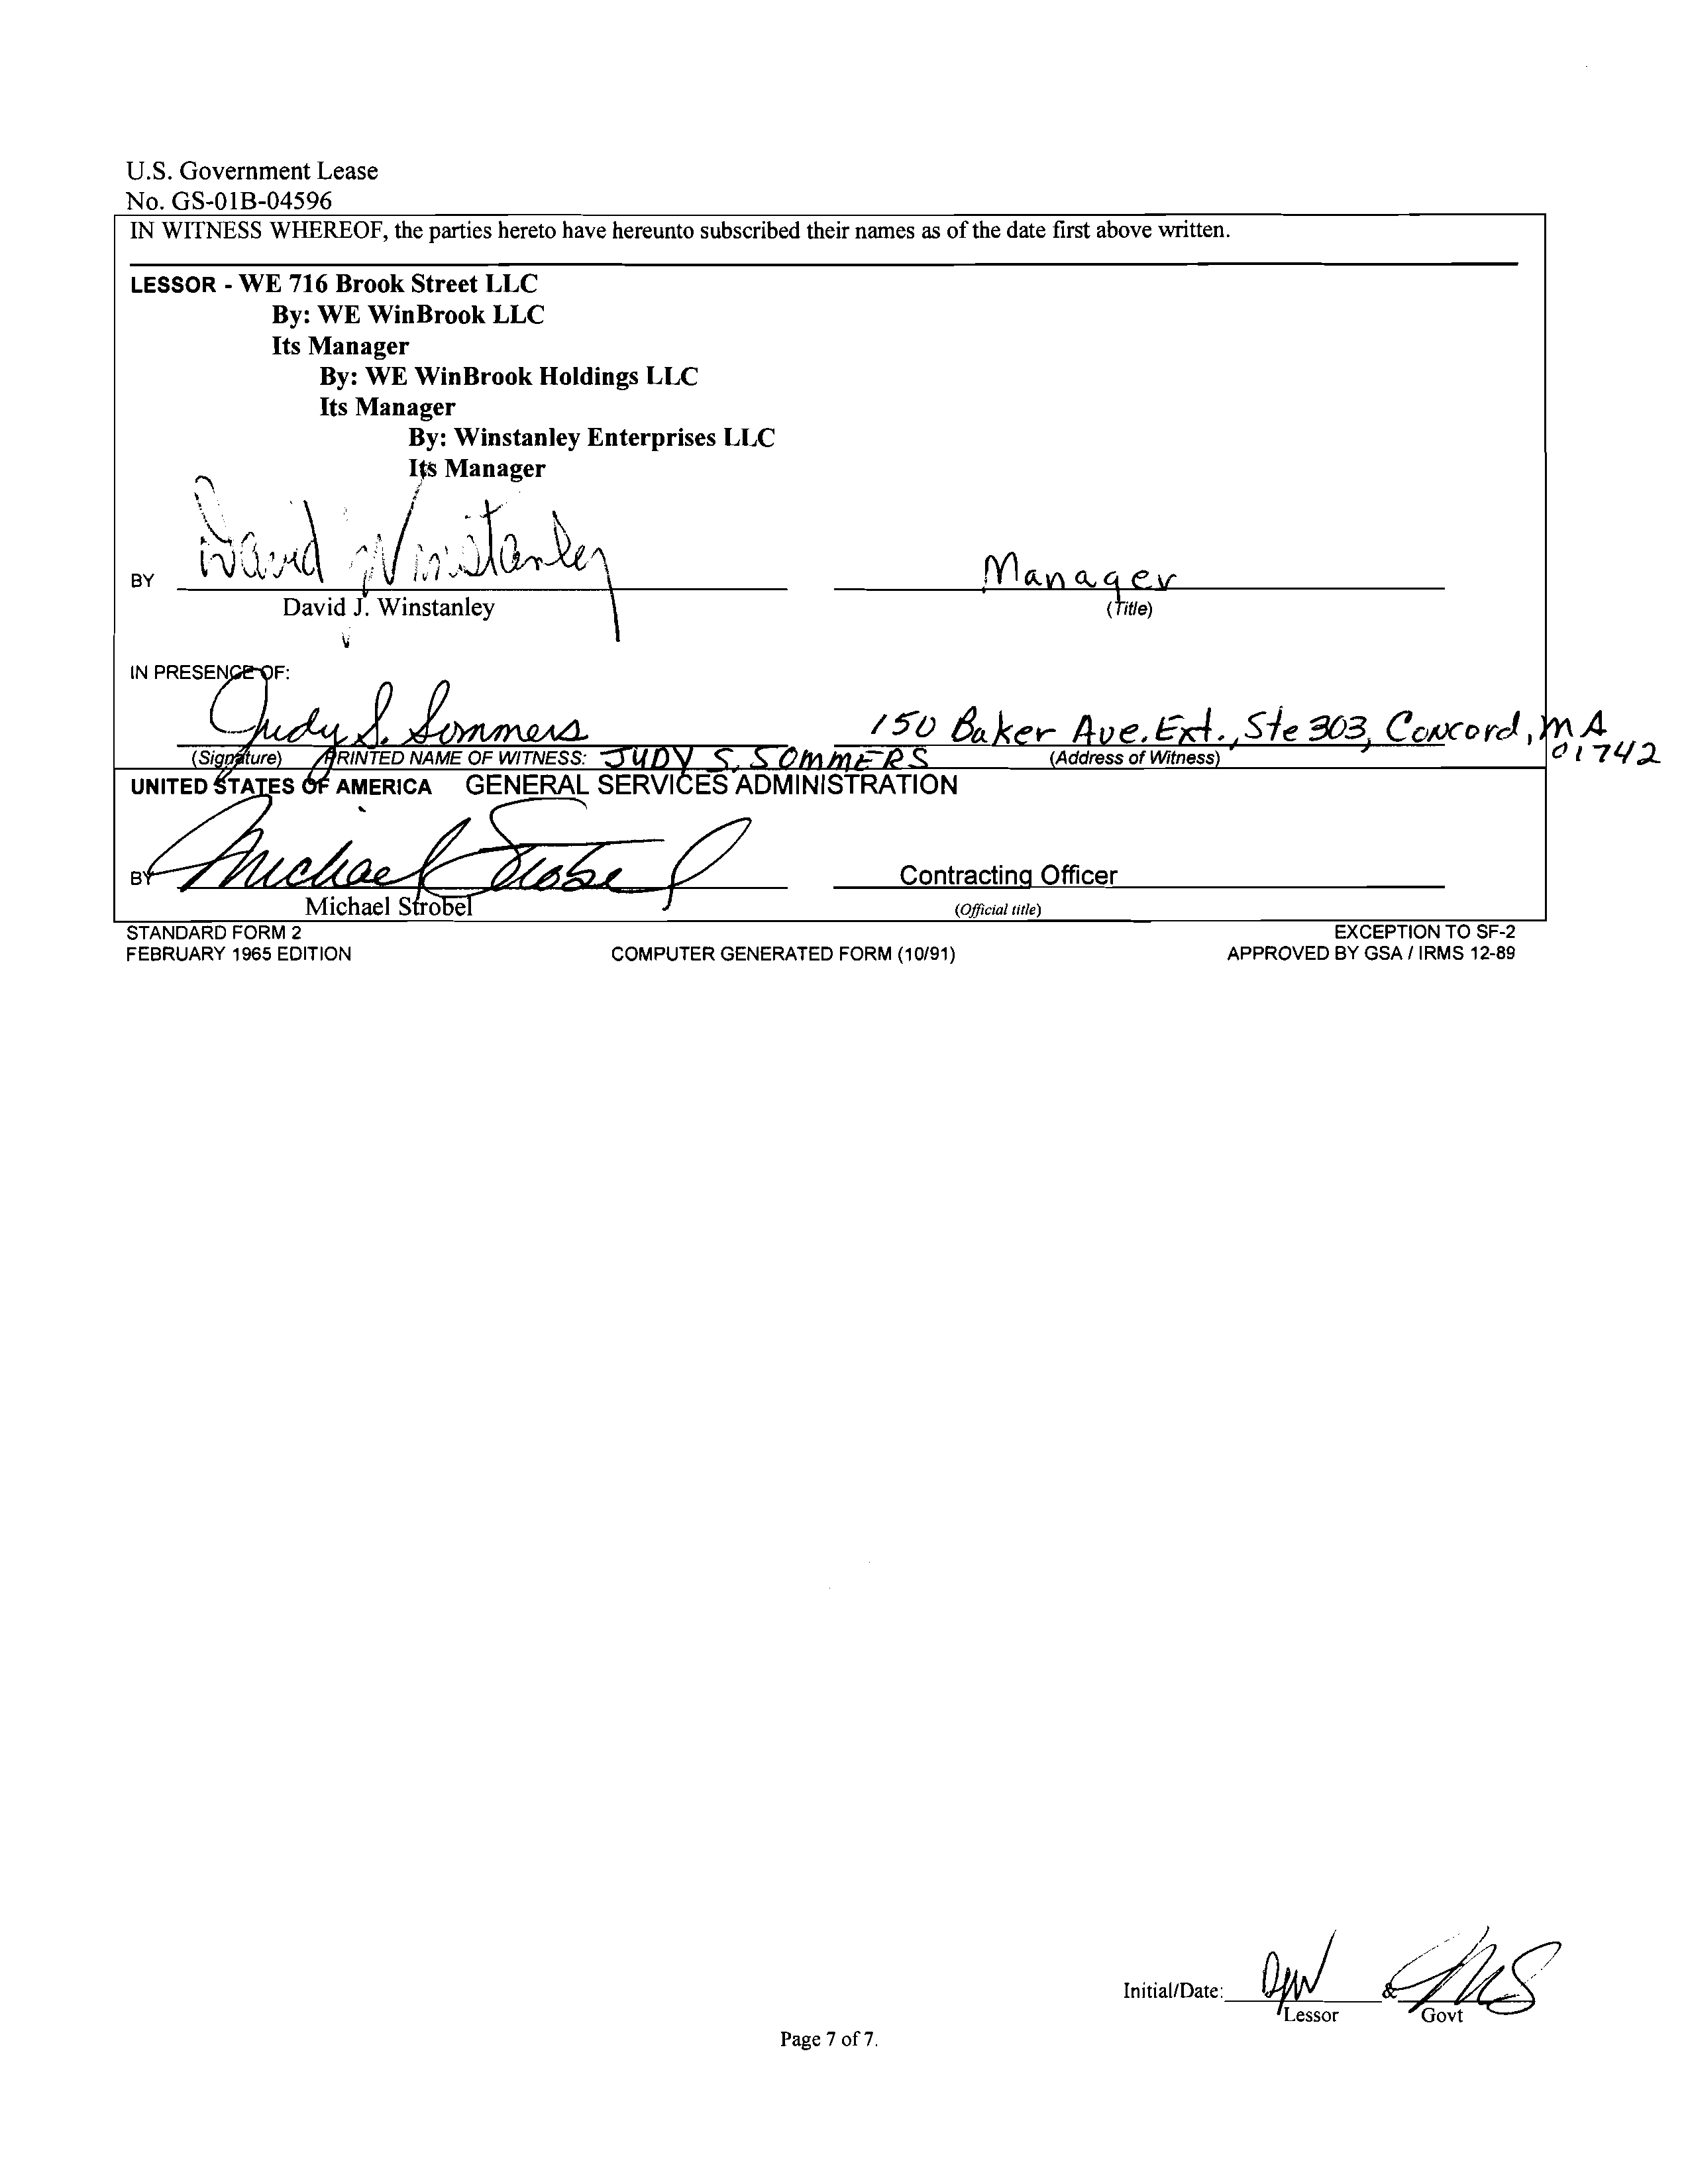handwritten: (183, 470, 608, 597), (152, 807, 752, 897), (144, 799, 764, 874), (864, 693, 1614, 745), (209, 670, 585, 752), (1385, 1899, 1580, 2014), (543, 493, 628, 652), (973, 535, 1184, 599), (642, 812, 754, 922), (1252, 1895, 1348, 2016), (599, 748, 931, 773), (1537, 745, 1605, 775)
